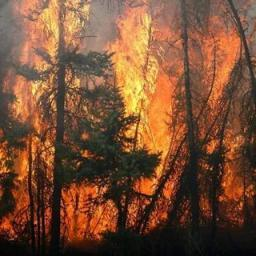Large fire: (11, 1, 247, 238)
